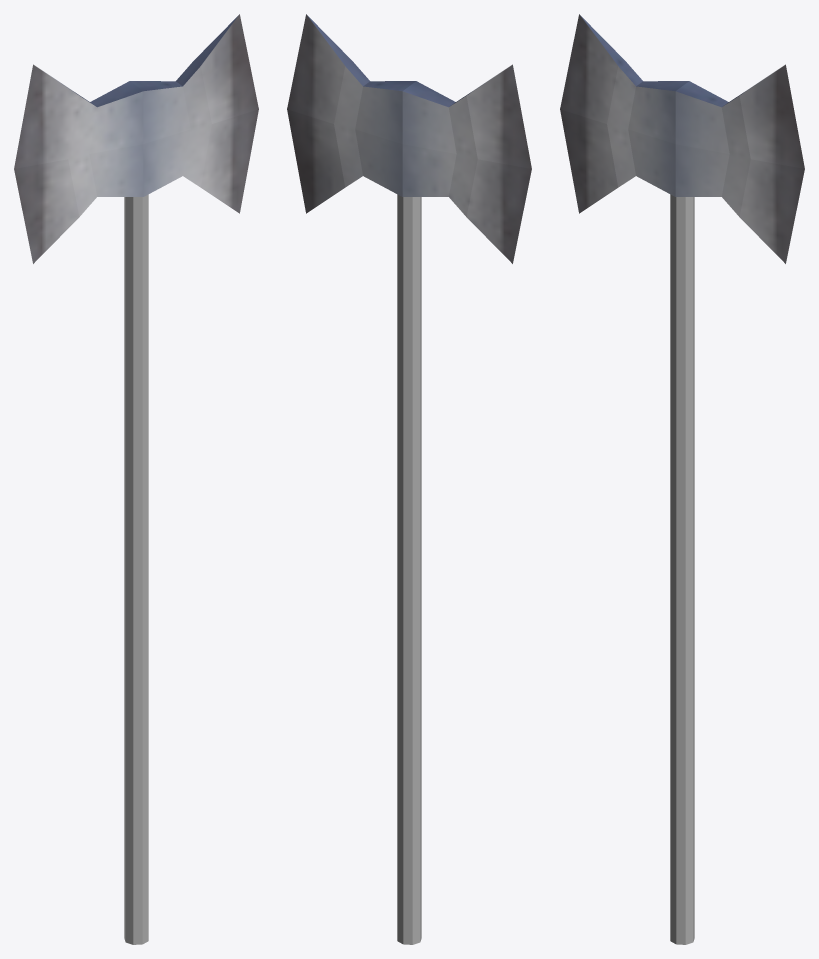
The model's file is MS_Axe_1.fbx.
3 views of the same model, side by side, from view 1: azimuth 30°, elevation 25°; view 2: azimuth 150°, elevation 25°; view 3: azimuth 330°, elevation 25° (orthographic).
Parts seen in each view (by area): view 1: Cube; view 2: Cube; view 3: Cube.
Boxes of the visible parts, box(x1,y1,x2,y2) form: Cube: box(14, 14, 258, 944); Cube: box(287, 14, 531, 944); Cube: box(560, 14, 804, 944).
Bounding box in the file's own units: 59.84 × 210 × 5.89.
